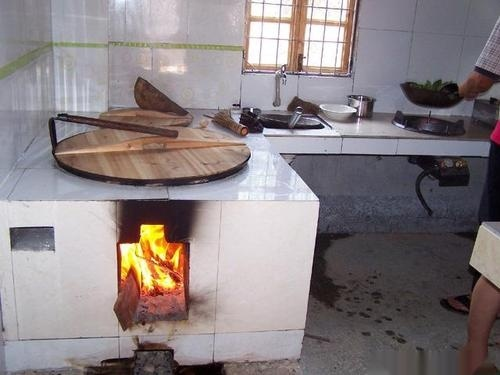fire: (118, 222, 186, 291)
